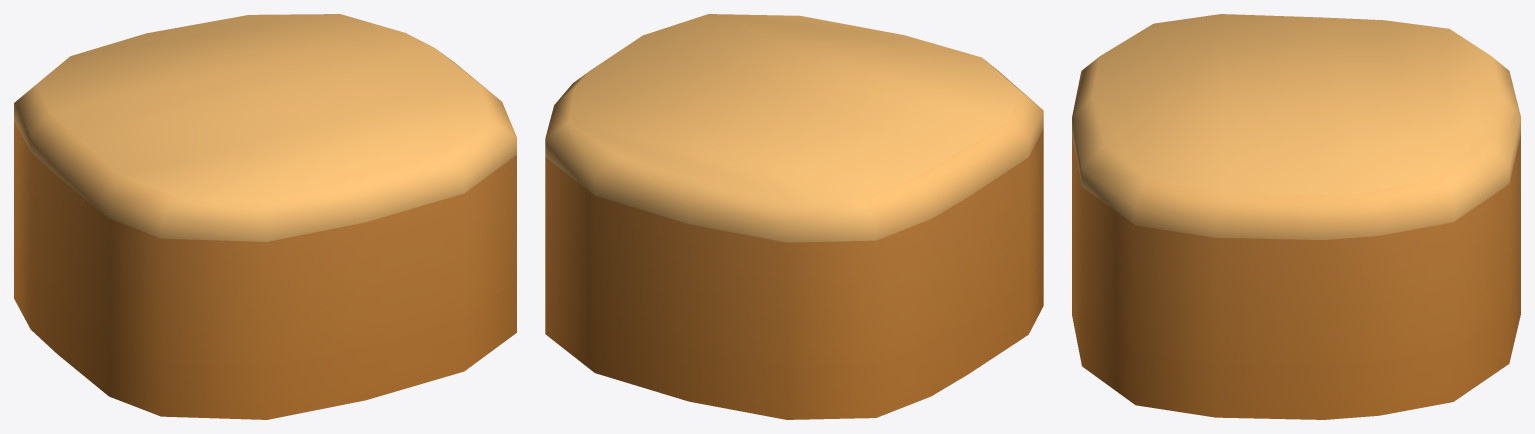
File: Island 01.FBX
3 renders of one model, left to right at view 1: azimuth 30°, elevation 25°; view 2: azimuth 150°, elevation 25°; view 3: azimuth 270°, elevation 25°, orthographic.
Parts seen in each view (by area): view 1: Island 01; view 2: Island 01; view 3: Island 01.
Part boxes in pixels (<box>): Island 01: <box>14,14,516,419</box>; Island 01: <box>545,14,1043,419</box>; Island 01: <box>1072,14,1520,419</box>.
Bounding box in the file's own units: 589 × 300 × 566.
Materials: 1 (1 with a texture image).
